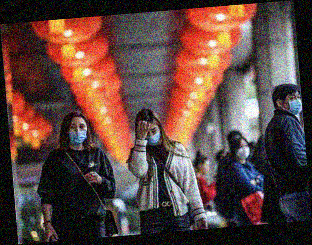with_mask: (66, 120, 89, 147), (283, 91, 302, 116), (142, 126, 162, 147), (235, 143, 252, 161)
